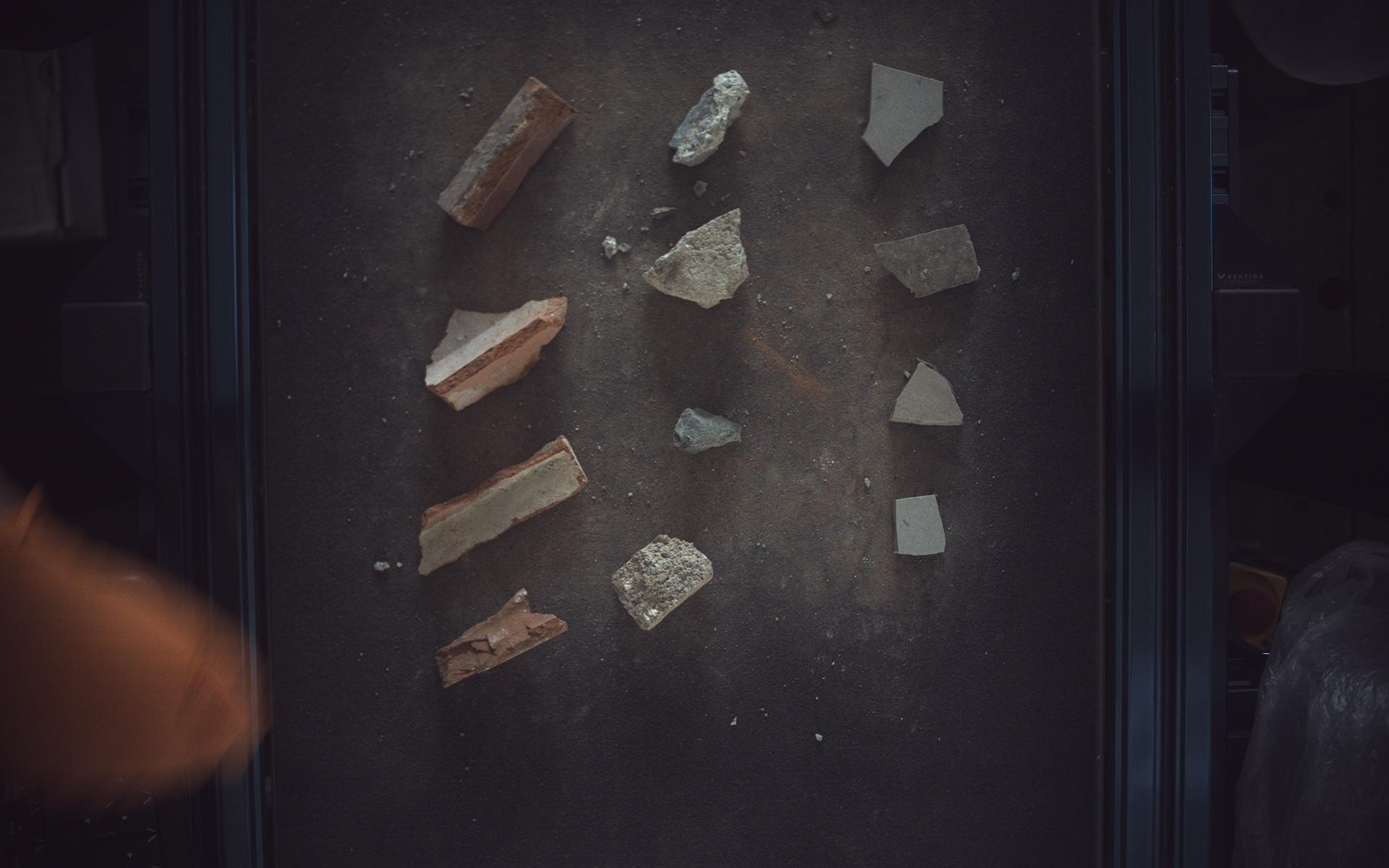brick: (418, 436, 588, 576), (438, 76, 577, 229), (425, 297, 568, 411), (436, 590, 568, 689)
concrete: (644, 208, 750, 308), (612, 535, 714, 631), (670, 69, 751, 165), (675, 408, 742, 454)
tile: (864, 61, 946, 166), (877, 224, 982, 297), (891, 360, 965, 426), (897, 495, 947, 556)
